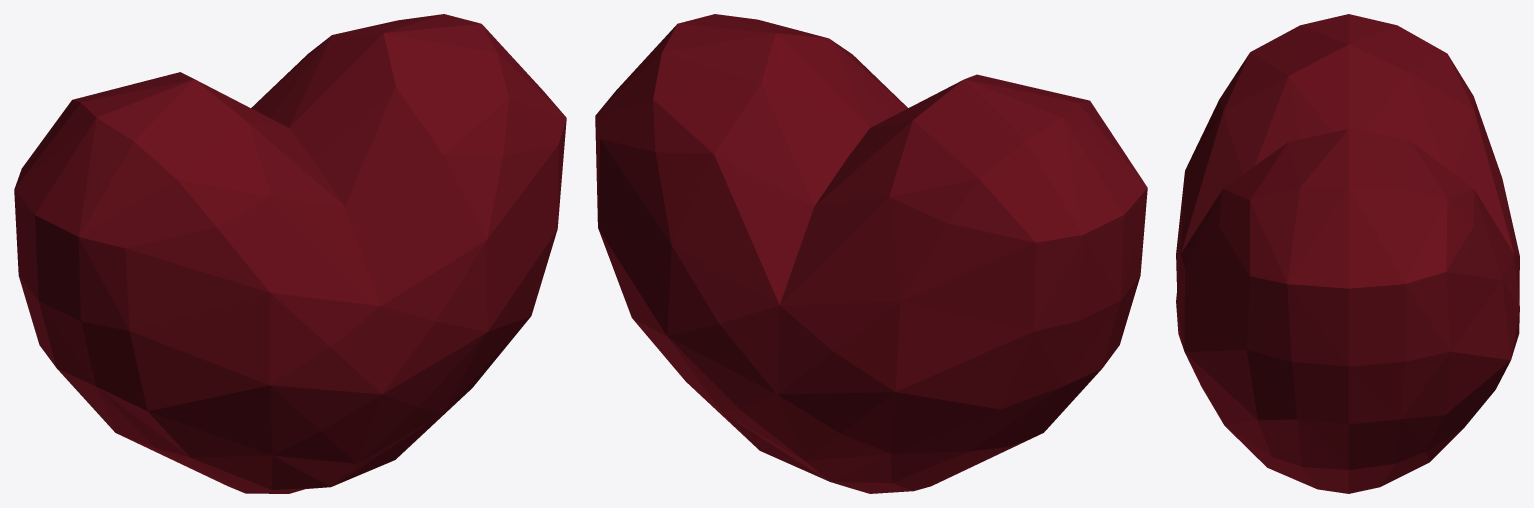
File: heart1.glb
The picture shows the model from 3 angles, left to right: view 1: azimuth 30°, elevation 25°; view 2: azimuth 150°, elevation 25°; view 3: azimuth 270°, elevation 25°; orthographic projection. The views are drawn at different scales.
Visible parts, largest first — view 1: Cube; view 2: Cube; view 3: Cube.
Boxes of the visible parts, x1,y1,x2,y2 form: Cube: (14,14,566,493); Cube: (595,14,1147,493); Cube: (1176,14,1519,493).
Bounding box in the file's own units: 3.05 × 2.51 × 1.95.
